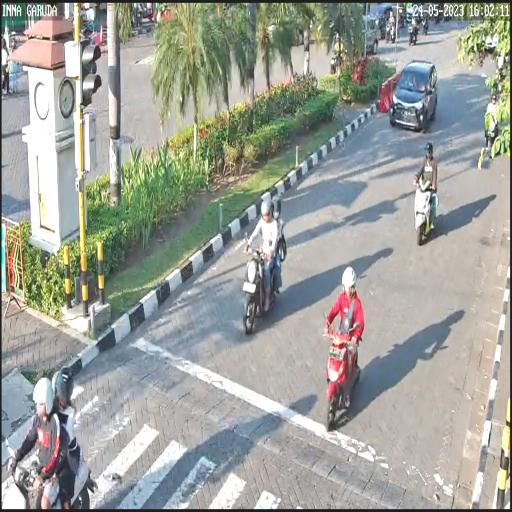mobil: (390, 54, 437, 135)
motor: (6, 406, 96, 504), (317, 307, 368, 427), (241, 226, 293, 330), (412, 167, 442, 248)
